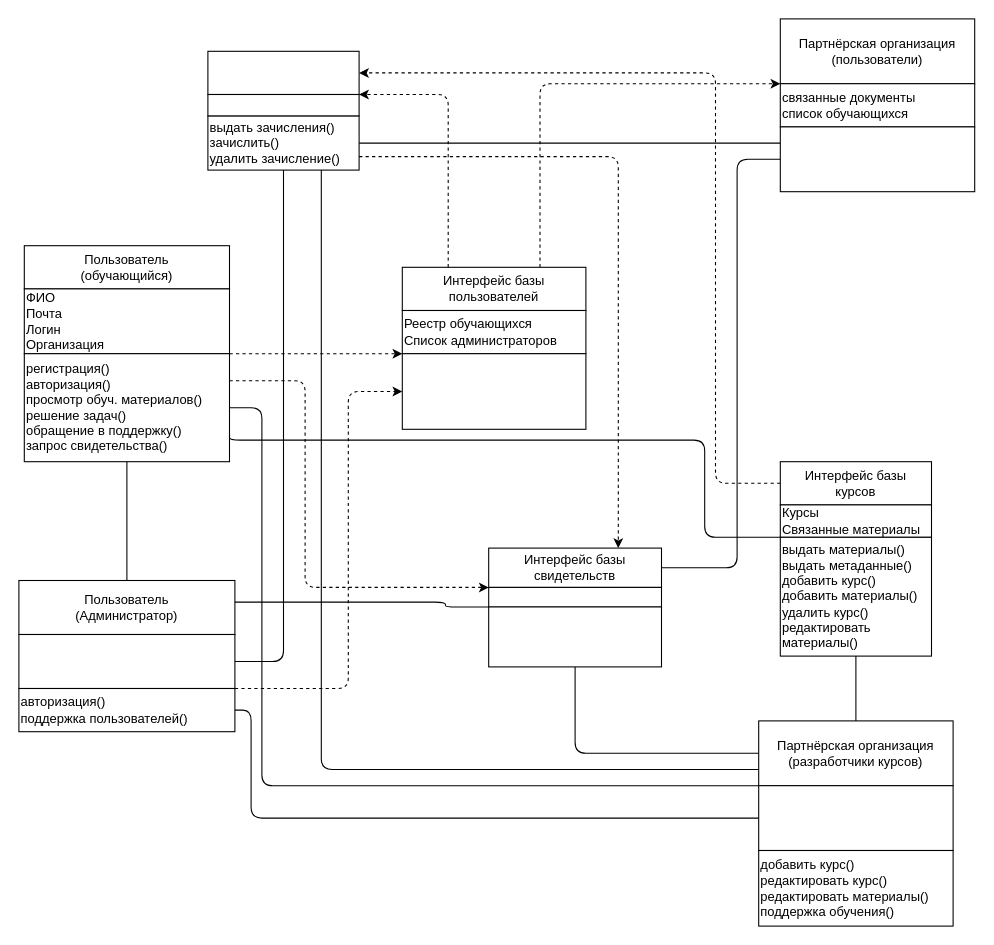
Image size: 994x945. Some labels were removed from this diagram. The shapes that lost their labels are listed below. From the top down, each one's centre as x and y in pixels, then its label:
point 283,72: Интерфейс базы зачислений
point 283,104: Зачисления
point 877,159: запросить данные() зачислить работников() запросить аналитику()
point 493,391: авторизовать() зарегестрировать() выдать реестр обуч.() удалить пользователя()
point 575,596: Свидетельства
point 575,636: выдать свидетельство(а)() очистить устаревшие() формирование аналитики()
point 126,660: ФИО Почта Логин
point 855,817: документы аккредетации список сотрудников список курсов
